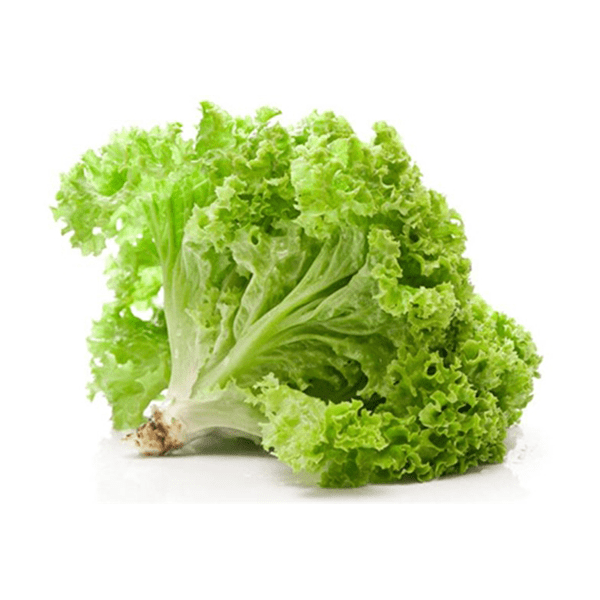Lettuce: (38, 100, 549, 518)
